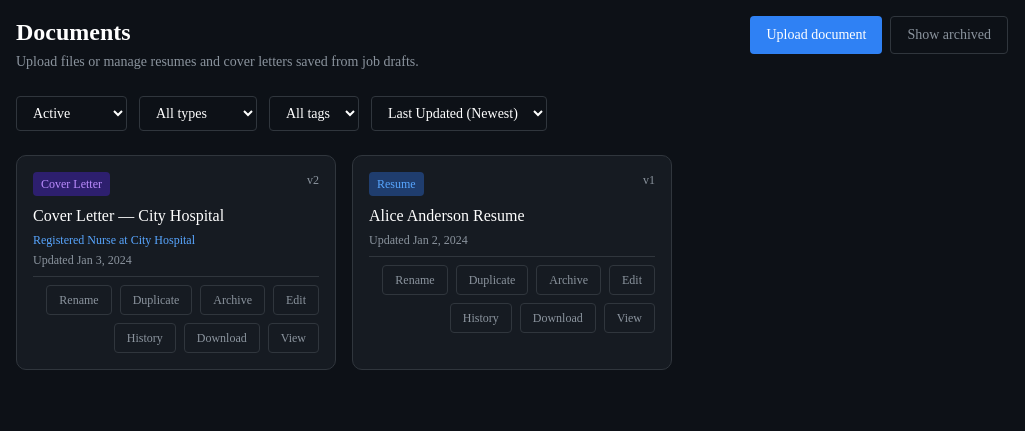
Test: DocumentsPage - S3-007 Document Duplicate and Rename › shows an error message and keeps the original title when Rename fails
Expected: the heading "Alice Anderson Resume" is shown, [369,207,524,224]
Step 1. Click the button with test id "document-rename-button" below "Jan 2, 2024" → (415, 280), box [382,265,448,295]
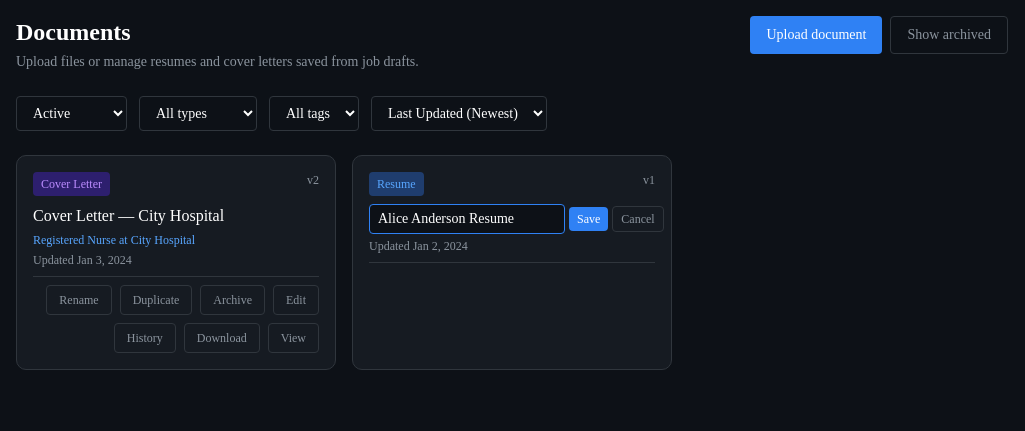
Step 2. Replace the text in the field with test id "document-rename-input" with "Should Fail" → (467, 219), box [369,204,565,234]
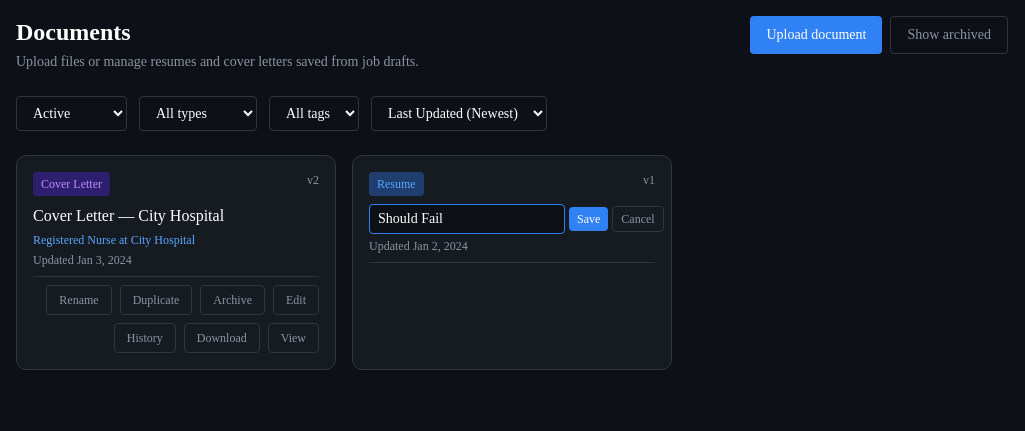
Step 3. Click the button with test id "document-rename-save" → (589, 219), box [569,207,608,231]
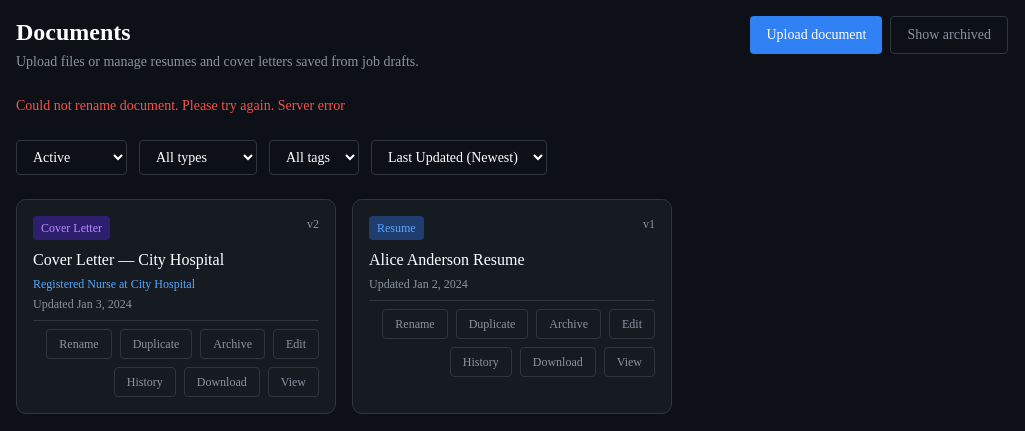
Expected: the message with test id "action-error" shows "Could not rename", [16,98,345,113]
Expected: the heading "Alice Anderson Resume" is shown, [369,251,524,268]
